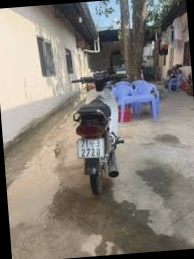Bien-so: (69, 143, 98, 163)
